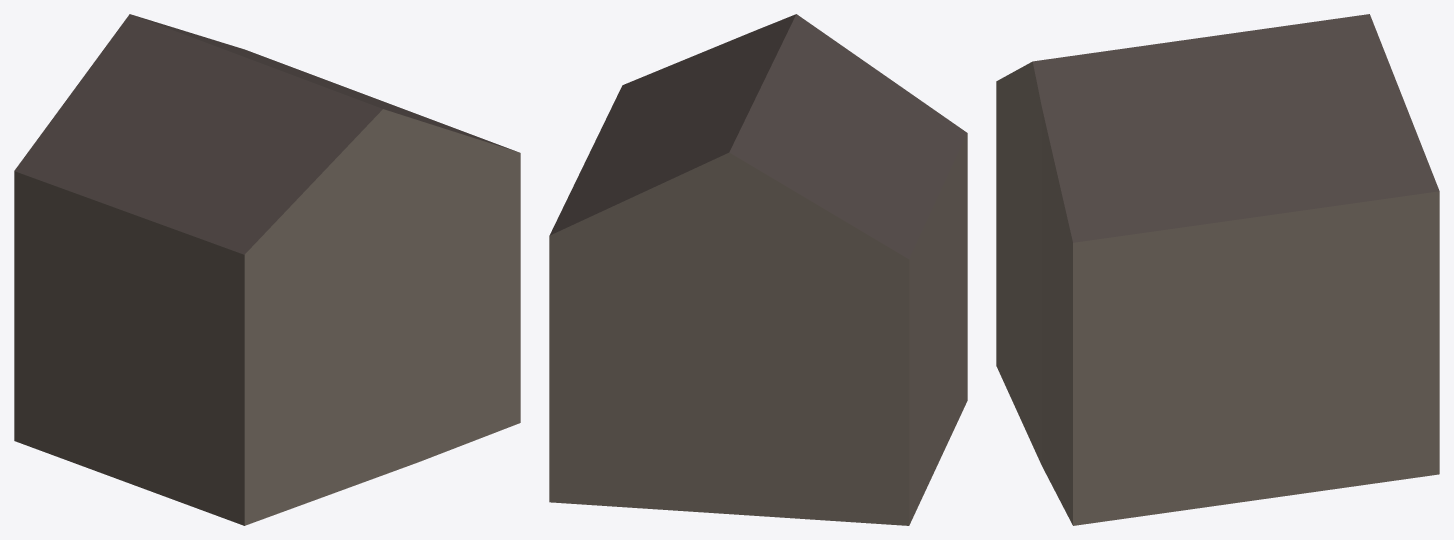
3 views of the same model, side by side, from view 1: azimuth 30°, elevation 25°; view 2: azimuth 150°, elevation 25°; view 3: azimuth 270°, elevation 25° (orthographic). The views are drawn at different scales.
Parts seen in each view (by area): view 1: HP-w1198664289; view 2: HP-w1198664289; view 3: HP-w1198664289.
Boxes of the visible parts, x1=… form: HP-w1198664289: x1=14, y1=14, x2=520, y2=525; HP-w1198664289: x1=549, y1=14, x2=967, y2=525; HP-w1198664289: x1=996, y1=14, x2=1439, y2=525.
Bounding box in the file's own units: 9.27 × 8.14 × 8.52.
